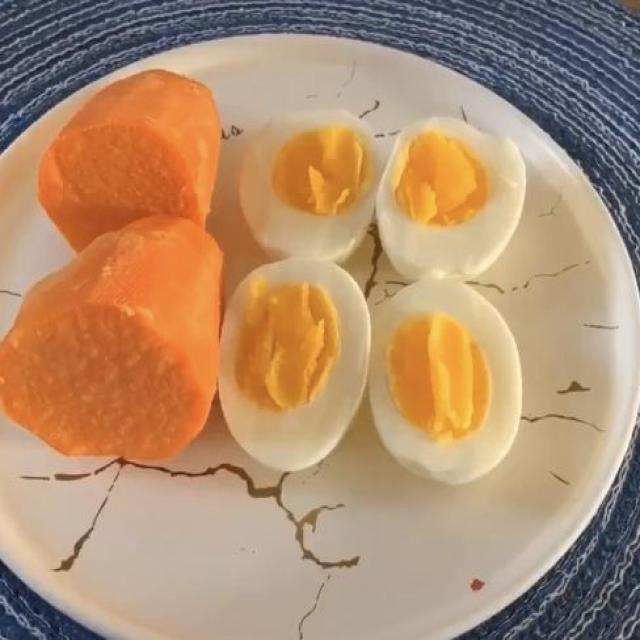eggs: (246, 117, 509, 466)
